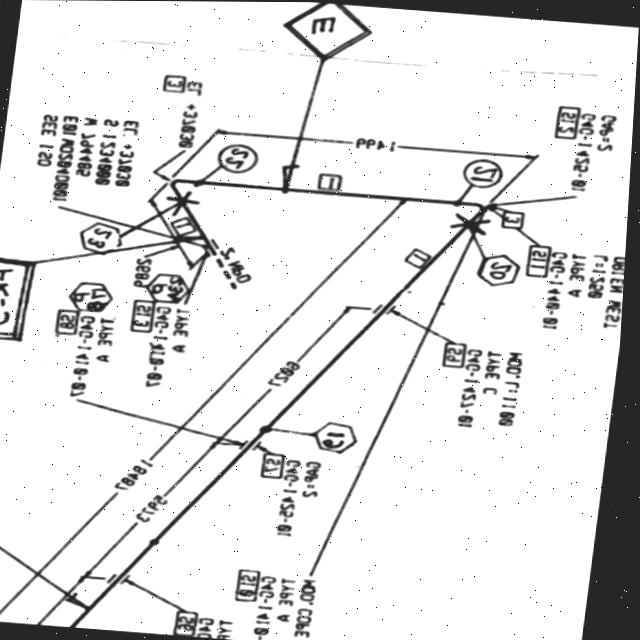Item number: (129, 295, 162, 334), (551, 101, 584, 140), (525, 240, 556, 278), (239, 565, 269, 603), (402, 243, 438, 270), (443, 338, 474, 369), (262, 449, 293, 480), (55, 305, 85, 336), (178, 607, 207, 636), (316, 168, 348, 191), (501, 206, 529, 230), (161, 71, 189, 94)
Measrement: (0, 197, 421, 621), (210, 303, 367, 442), (207, 124, 549, 164)
Pipeline: (68, 174, 500, 628)
Symbol: (157, 168, 214, 212), (449, 193, 495, 239), (241, 433, 272, 456), (374, 299, 403, 319)
Weld number: (314, 416, 367, 456), (78, 218, 130, 257), (478, 248, 527, 288), (217, 138, 264, 175), (461, 154, 509, 189)
other: (81, 440, 233, 576), (24, 108, 144, 209), (541, 245, 628, 335), (458, 342, 531, 433), (258, 570, 328, 640), (568, 106, 623, 193), (146, 303, 199, 392), (71, 312, 122, 404), (280, 455, 330, 541), (178, 76, 209, 152), (203, 610, 247, 639)
